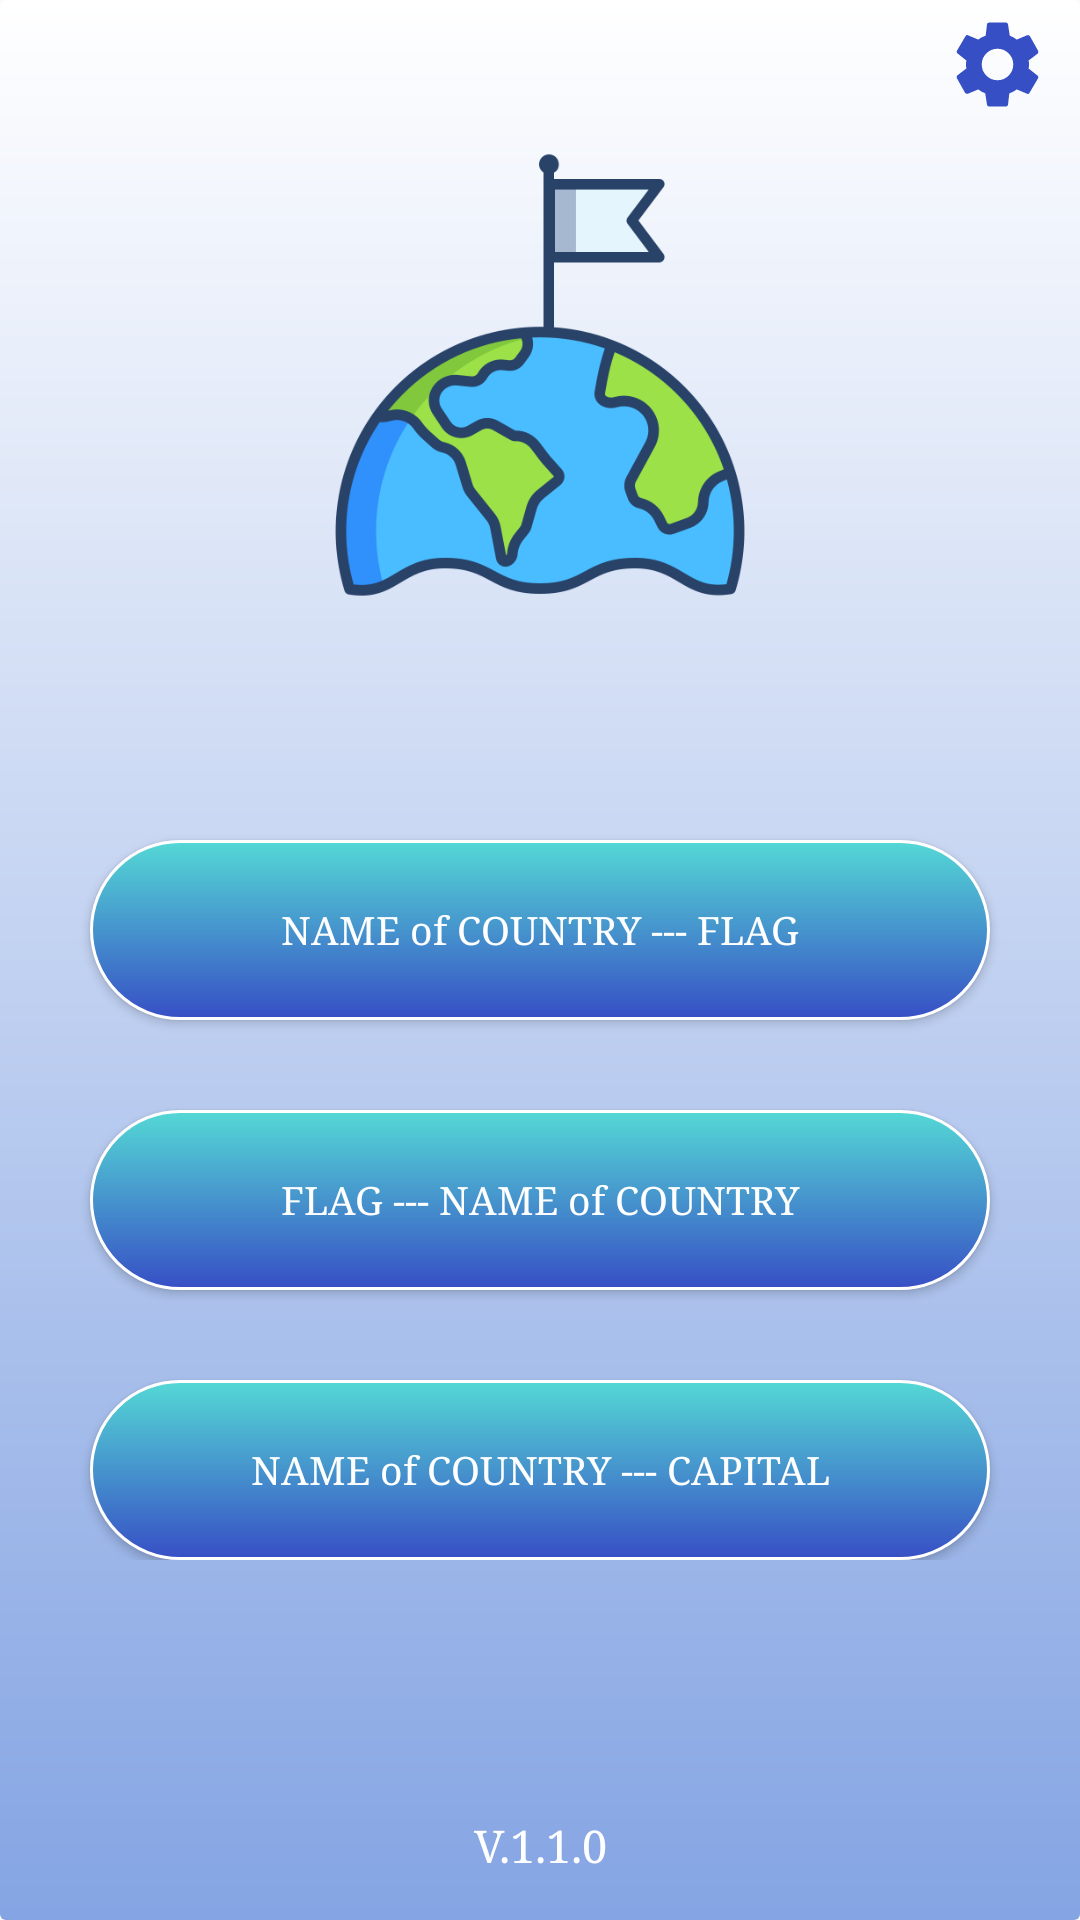

Where to tap for icons on this 1080*1920 app screen, as point (x, y):
settings: point (997, 64)
